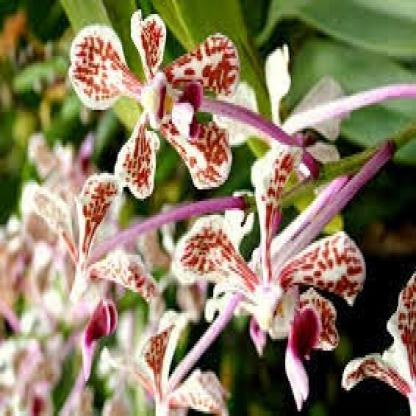ANGGREK: (38, 18, 393, 385)
